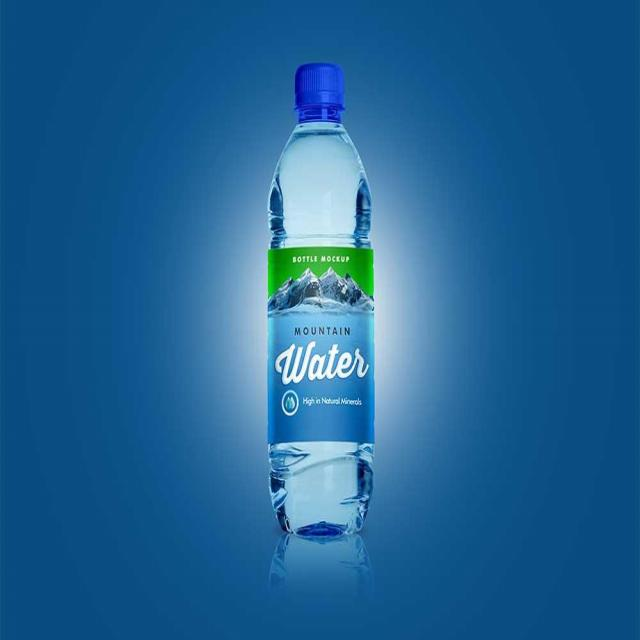bottle: (252, 44, 387, 580)
